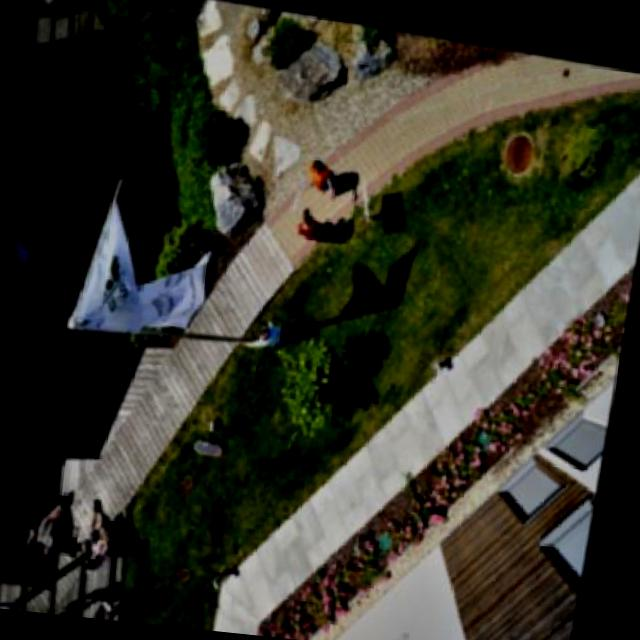Person: (234, 307, 294, 354), (288, 200, 340, 244), (304, 146, 346, 191)
